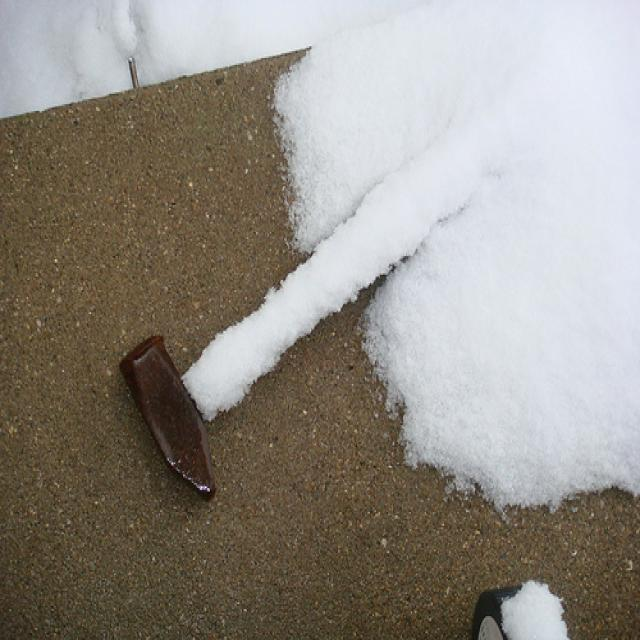hammer: (100, 239, 312, 520)
